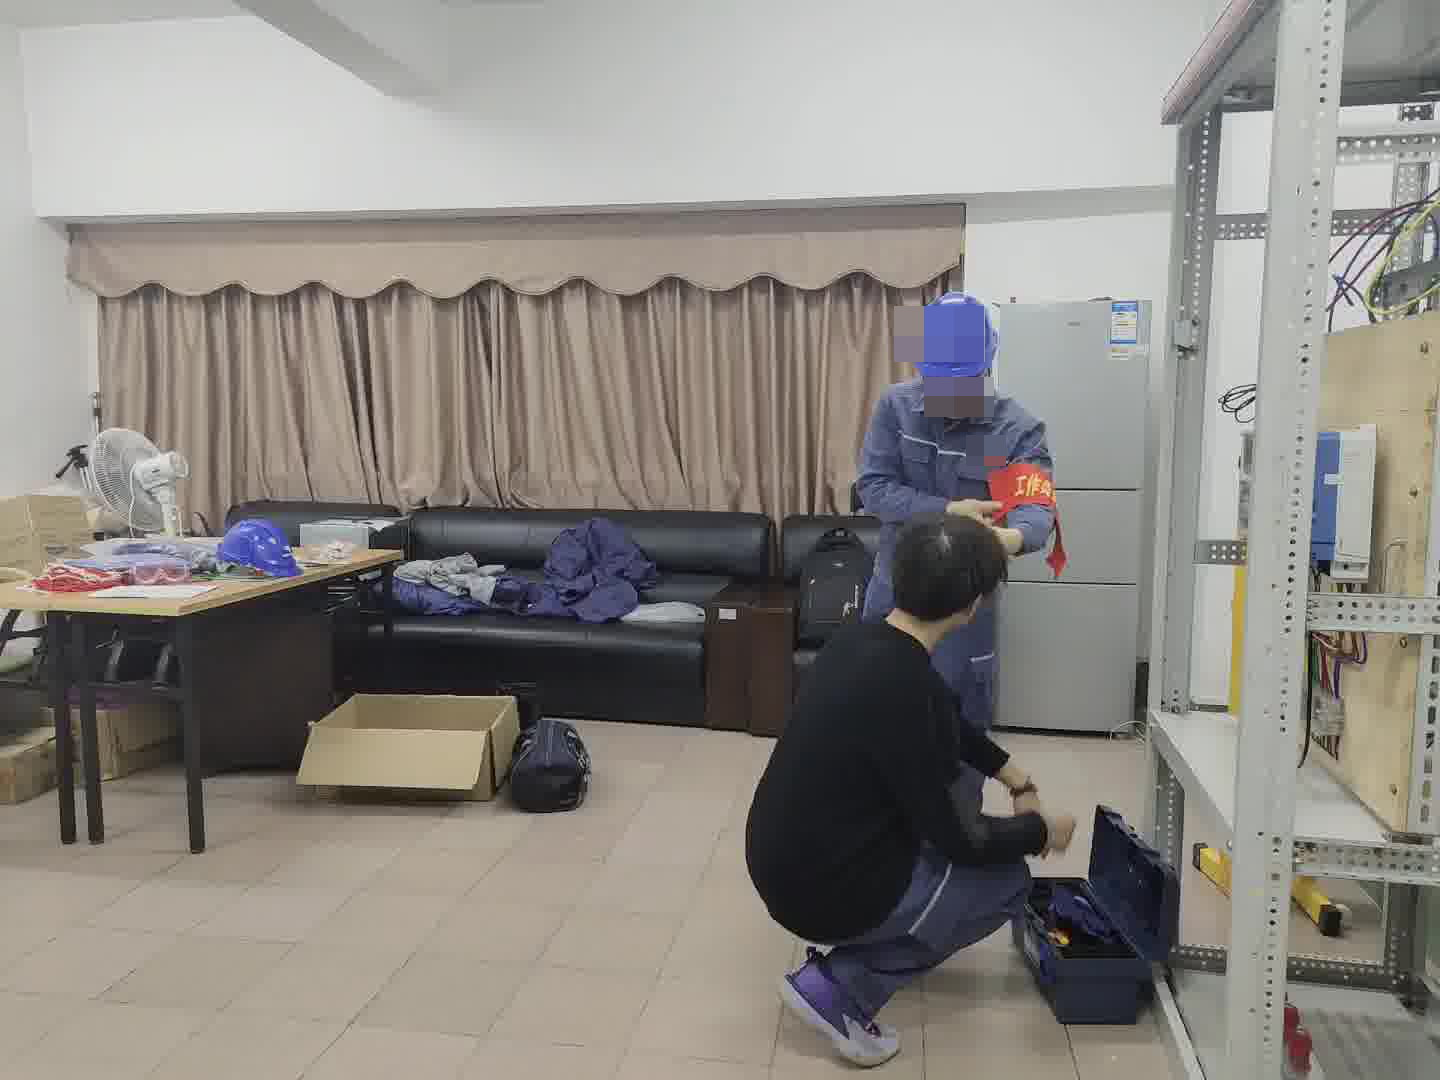badge: (989, 462, 1053, 511)
halt: (910, 291, 1000, 419)
hand: (1006, 760, 1045, 819), (1037, 809, 1081, 857), (949, 496, 1002, 525)
person: (738, 286, 1094, 1078)
unhalt: (881, 516, 1004, 642)
upcloth: (743, 629, 973, 942)
upsuit: (852, 384, 1059, 546)
